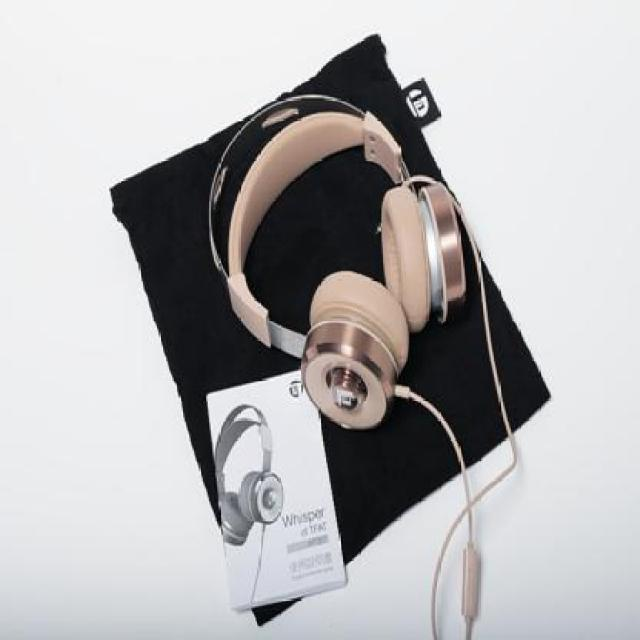earphone: (195, 81, 468, 396)
